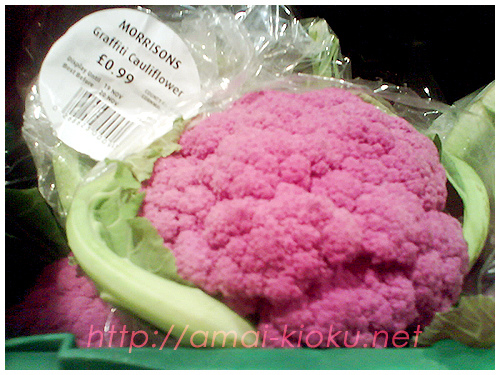cauliflower: (68, 84, 491, 327)
